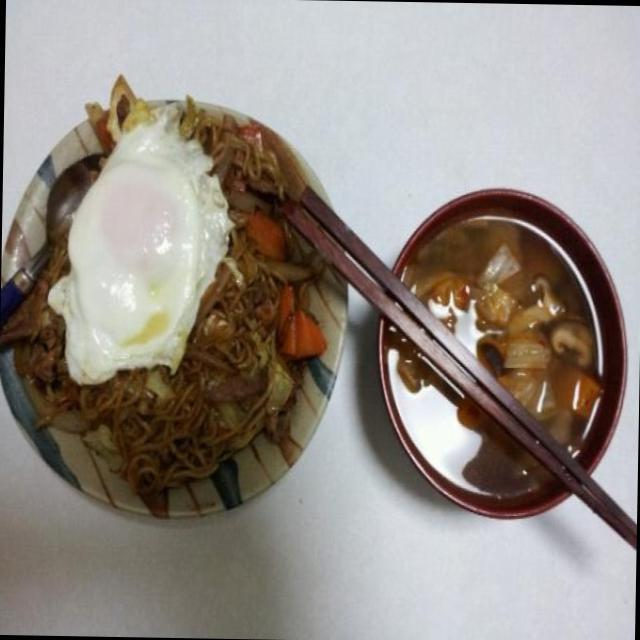Egg: (64, 130, 212, 368)
